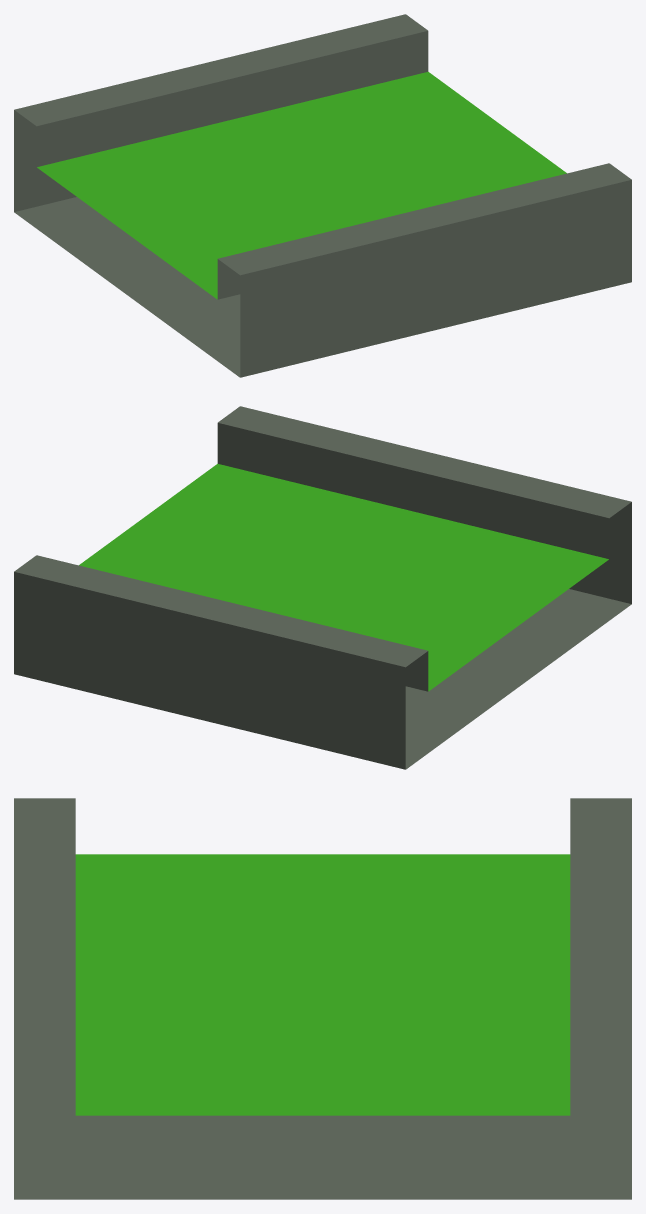
File: Straight.fbx
The picture shows the model from 3 angles, top to bottom: view 1: azimuth 30°, elevation 25°; view 2: azimuth 150°, elevation 25°; view 3: azimuth 270°, elevation 25°; orthographic projection. The views are drawn at different scales.
Parts seen in each view (by area): view 1: Straight; view 2: Straight; view 3: Straight.
Part boxes in pixels (left/top/right/bottom): Straight: left=14, top=14, right=631, bottom=377; Straight: left=14, top=406, right=631, bottom=769; Straight: left=14, top=798, right=631, bottom=1199.
Size of the model in its own units: 200 by 50 by 200.
